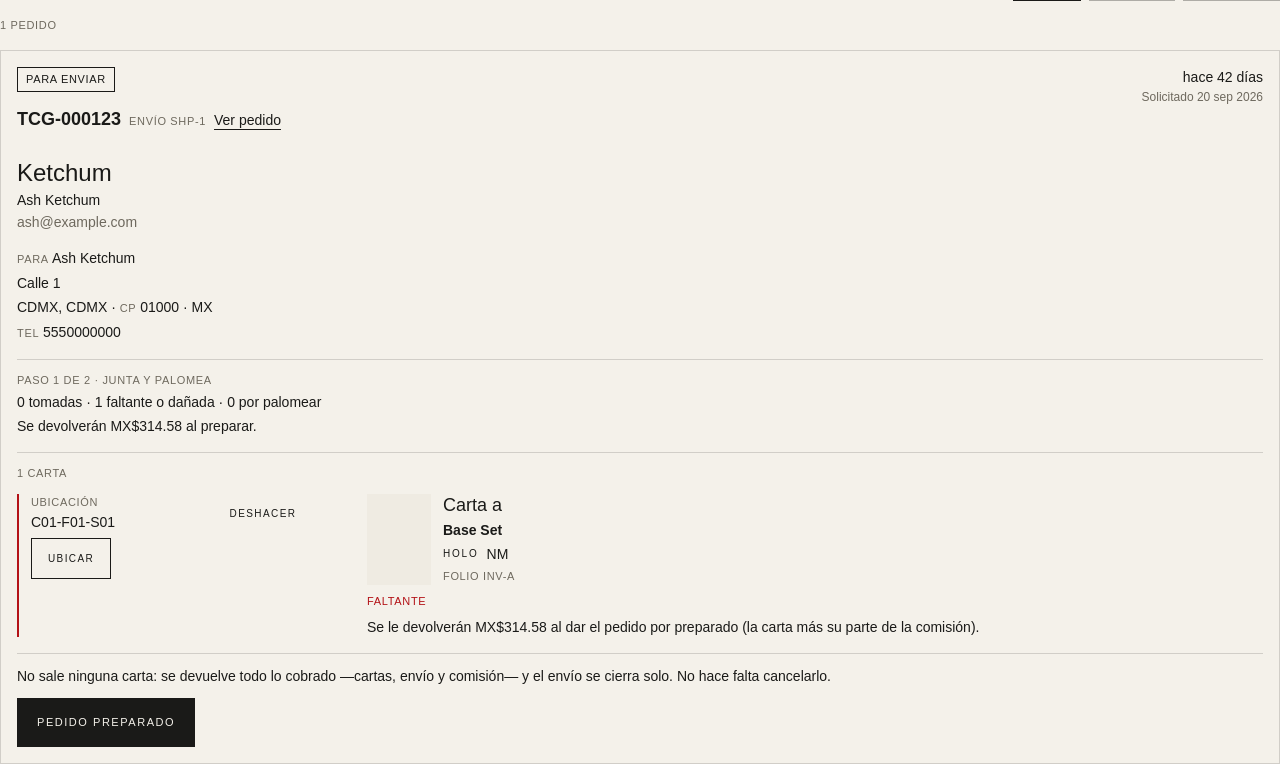
Scenario: v1.80.7 · `403 MONEY_OUT_LIMIT_EXCEEDED` trae `{capCents, usedCents, requestedCents}` tipados y el copy va SIN cifra (§37.4) › el pie dice la frase de §37.4 y ⛔ ninguna de las tres cifras aparece; hubo UN solo POST
(page scrolled)
Click the button "Pedido preparado": (106, 722) [17,698,195,746]
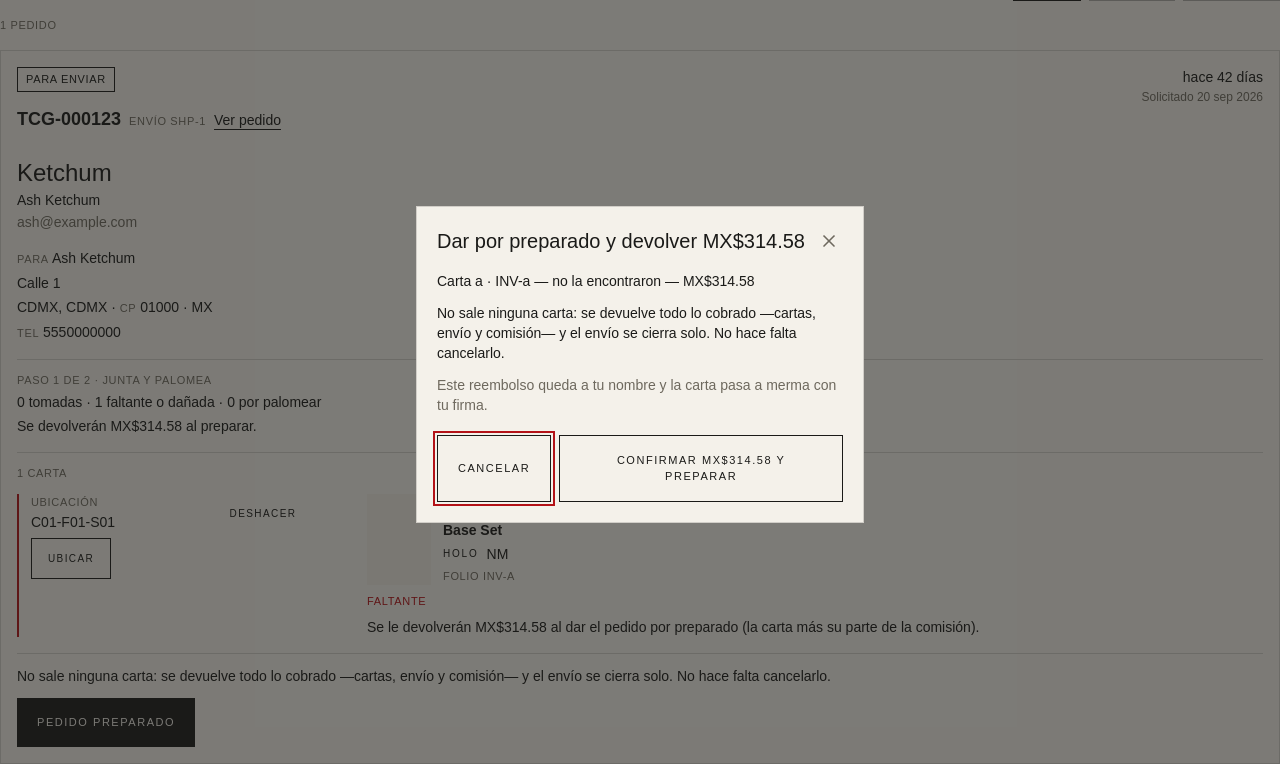
Click the button with test id "ship-prepare-confirm": (701, 468) [559,434,843,502]
(page scrolled)
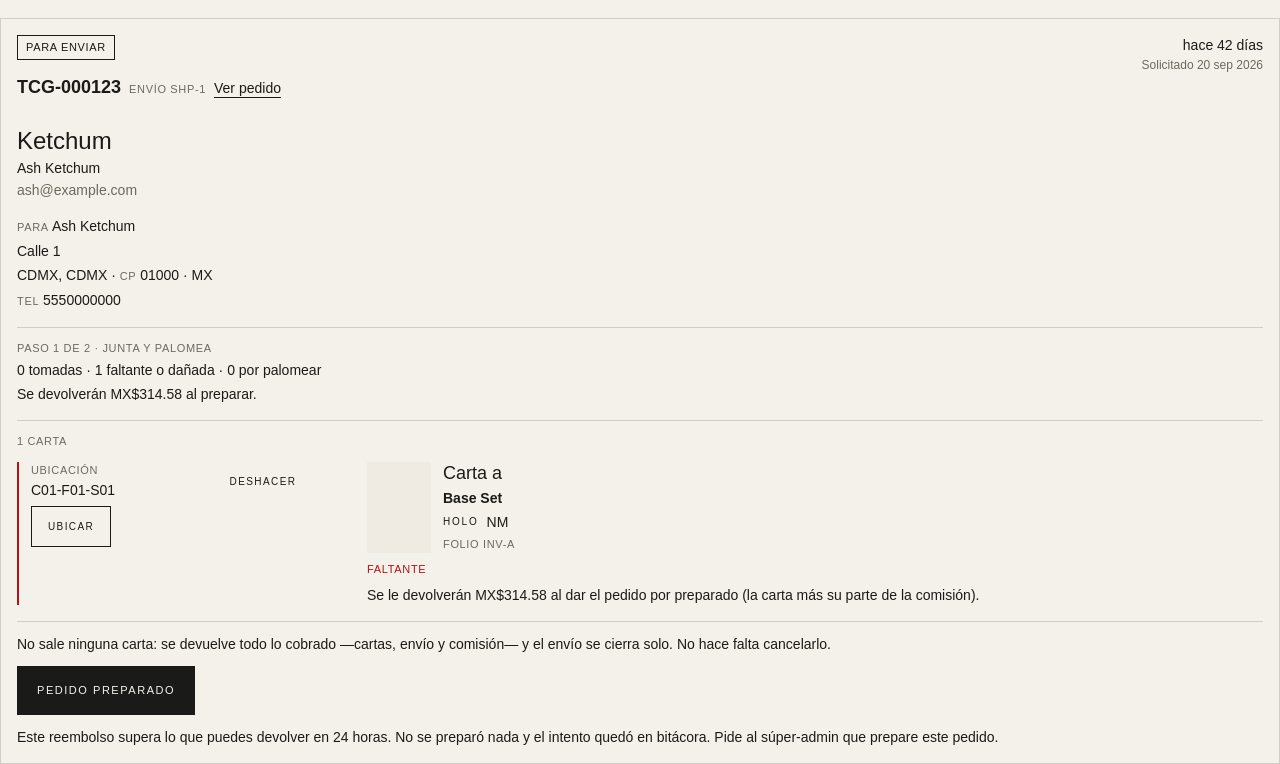
Now the dialog is gone
